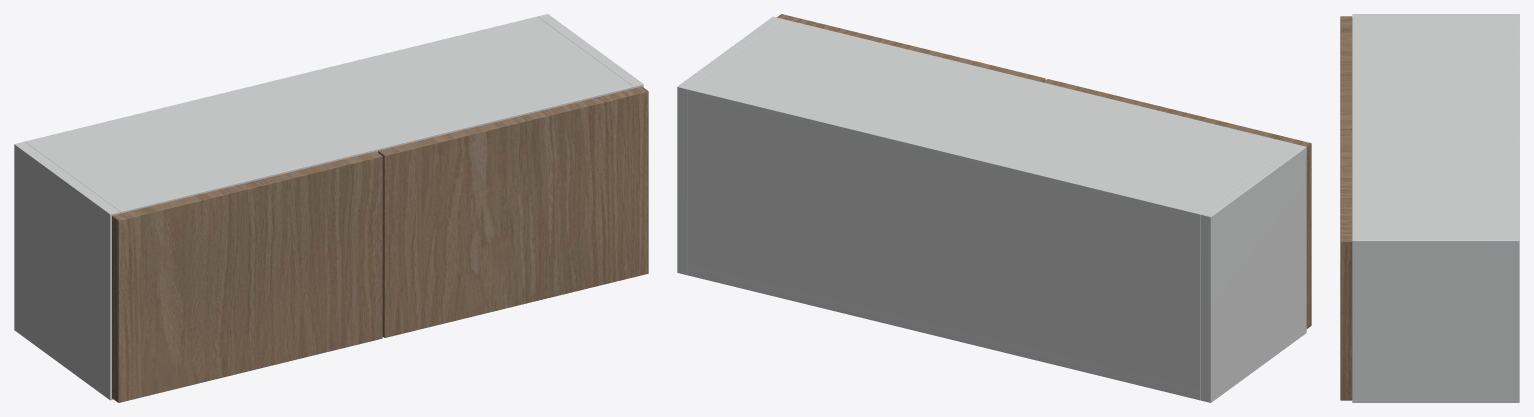
The model's file is oppein-ply-mnw-w3612.glb.
3 views of the same model, side by side, from view 1: azimuth 30°, elevation 25°; view 2: azimuth 150°, elevation 25°; view 3: azimuth 270°, elevation 25° (orthographic). The views are drawn at different scales.
Visible parts, largest first — view 1: Door, Door.001, Cabinet top, Cabinet side, Cabinet back, Cabinet side.001; view 2: Cabinet back, Cabinet top, Cabinet side, Cabinet bottom, Cabinet side.001, Door, Door.001; view 3: Cabinet top, Cabinet side.001, Door.001, Cabinet back, Door, Cabinet side.
Boxes of the visible parts, x1,y1,x2,y2 form: Door: [112, 151, 382, 402]; Door.001: [378, 86, 648, 337]; Cabinet top: [25, 16, 633, 213]; Cabinet side: [14, 141, 120, 400]; Cabinet back: [25, 16, 540, 144]; Cabinet side.001: [538, 14, 643, 88]; Cabinet back: [687, 86, 1203, 400]; Cabinet top: [687, 19, 1295, 224]; Cabinet side: [1200, 144, 1306, 402]; Cabinet bottom: [687, 265, 1200, 399]; Cabinet side.001: [677, 16, 783, 275]; Door: [1043, 79, 1311, 328]; Door.001: [777, 14, 1045, 82]; Cabinet top: [1352, 18, 1519, 236]; Cabinet side.001: [1352, 236, 1519, 402]; Door.001: [1340, 129, 1352, 400]; Cabinet back: [1512, 18, 1519, 236]; Door: [1340, 16, 1352, 129]; Cabinet side: [1352, 14, 1519, 18].
Bounding box in the file's own units: 0.9144 × 0.3048 × 0.3048.
Materials: 2 (1 with a texture image).
